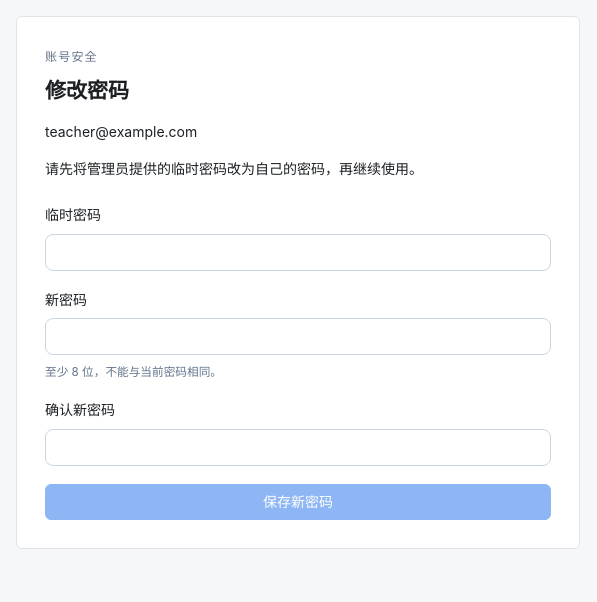
it: requires matching new passwords and clears password fields after success
Expected: the button "保存新密码" is disabled, [45,484,551,520]
Step 1. Type "temporary123" into the password field labelled "临时密码" → (298, 252), box [45,234,551,271]
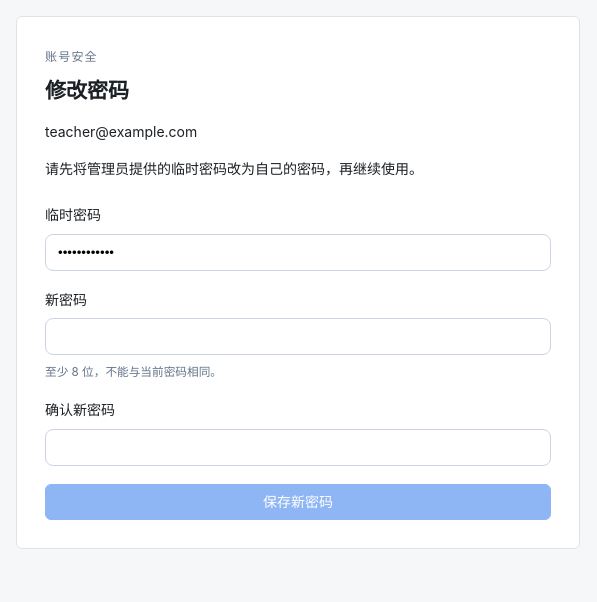
Step 2. Type "newpassword456" into the password field labelled "新密码" → (298, 337), box [45,318,551,355]
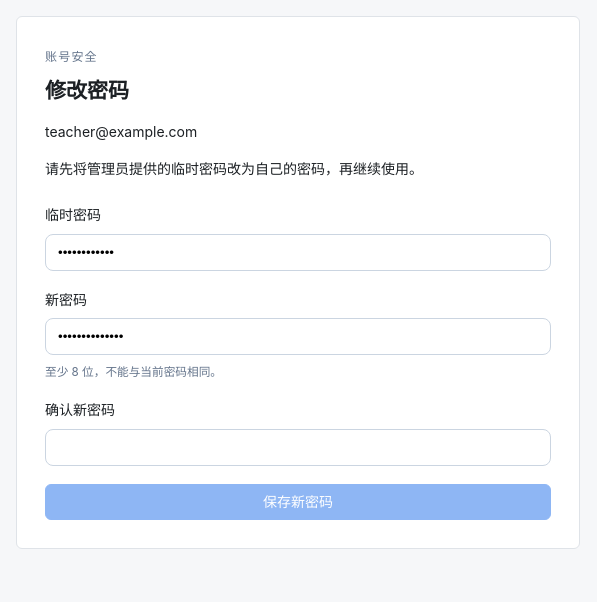
Step 3. Type "mismatch" into the password field labelled "确认新密码" → (298, 448), box [45,429,551,466]
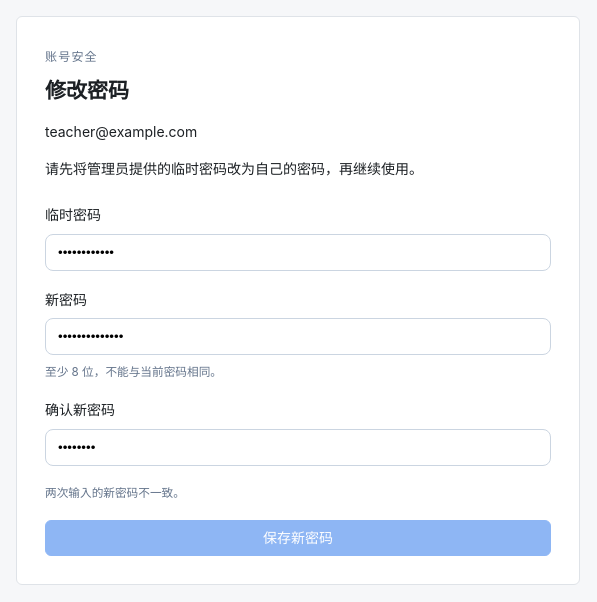
Expected: the button "保存新密码" is disabled, [45,520,551,556]
Step 4. Type "newpassword456" into the password field labelled "确认新密码" → (298, 448), box [45,429,551,466]
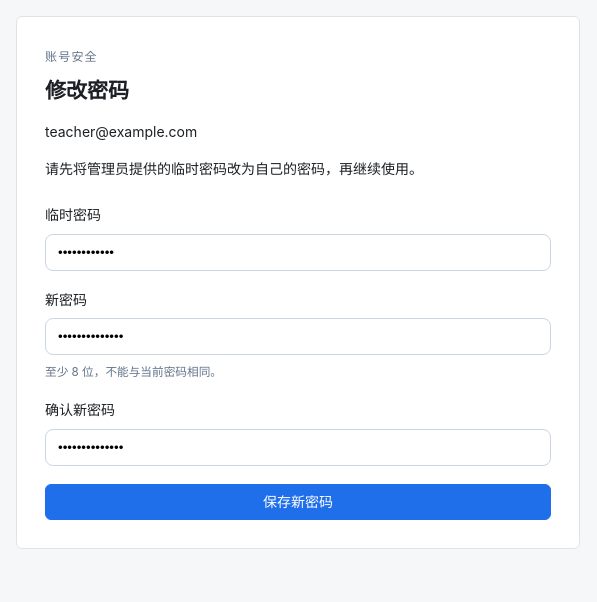
Step 5. Click the button "保存新密码" → (298, 502), box [45,484,551,520]
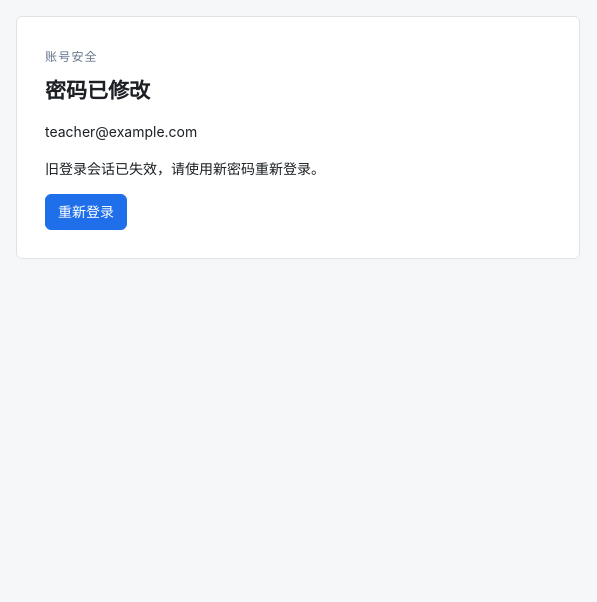
Result: the message shows "旧登录会话已失效" at [45,160,325,177]
